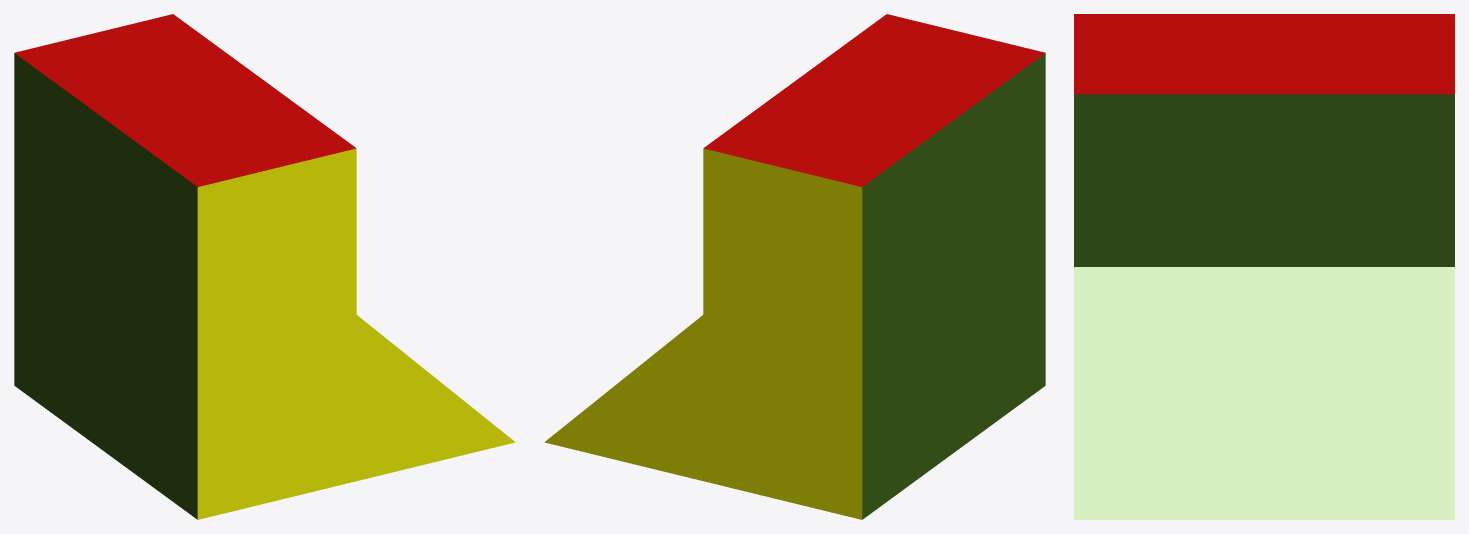
Rendered from Figura1Eval1.1.dae.
The picture shows the model from 3 angles, left to right: view 1: azimuth 30°, elevation 25°; view 2: azimuth 150°, elevation 25°; view 3: azimuth 270°, elevation 25°; orthographic projection. The views are drawn at different scales.
Parts seen in each view (by area): view 1: SketchUp (×3); view 2: SketchUp (×3); view 3: SketchUp (×3).
Boxes of the visible parts, box(x1,y1,x2,y2) form: SketchUp (×3): box(14, 14, 515, 519); SketchUp (×3): box(544, 14, 1045, 519); SketchUp (×3): box(1074, 14, 1454, 519).
Size of the model in its own units: 2.36 by 2.36 by 2.36.
